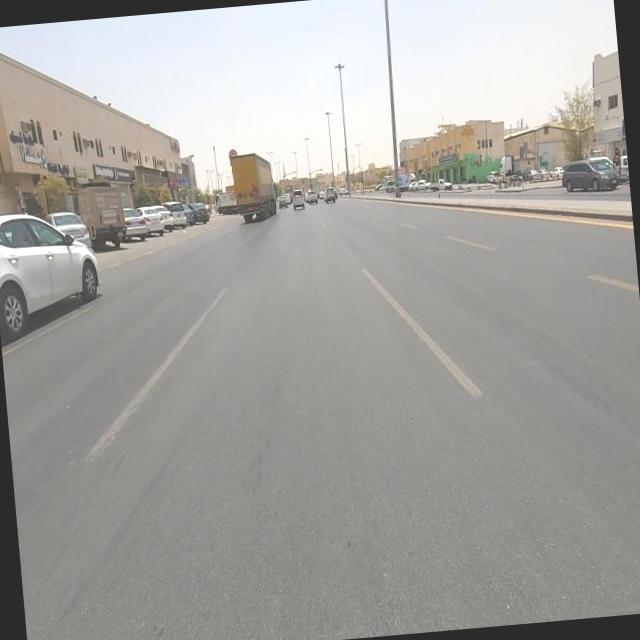debris: (120, 146, 194, 210)
